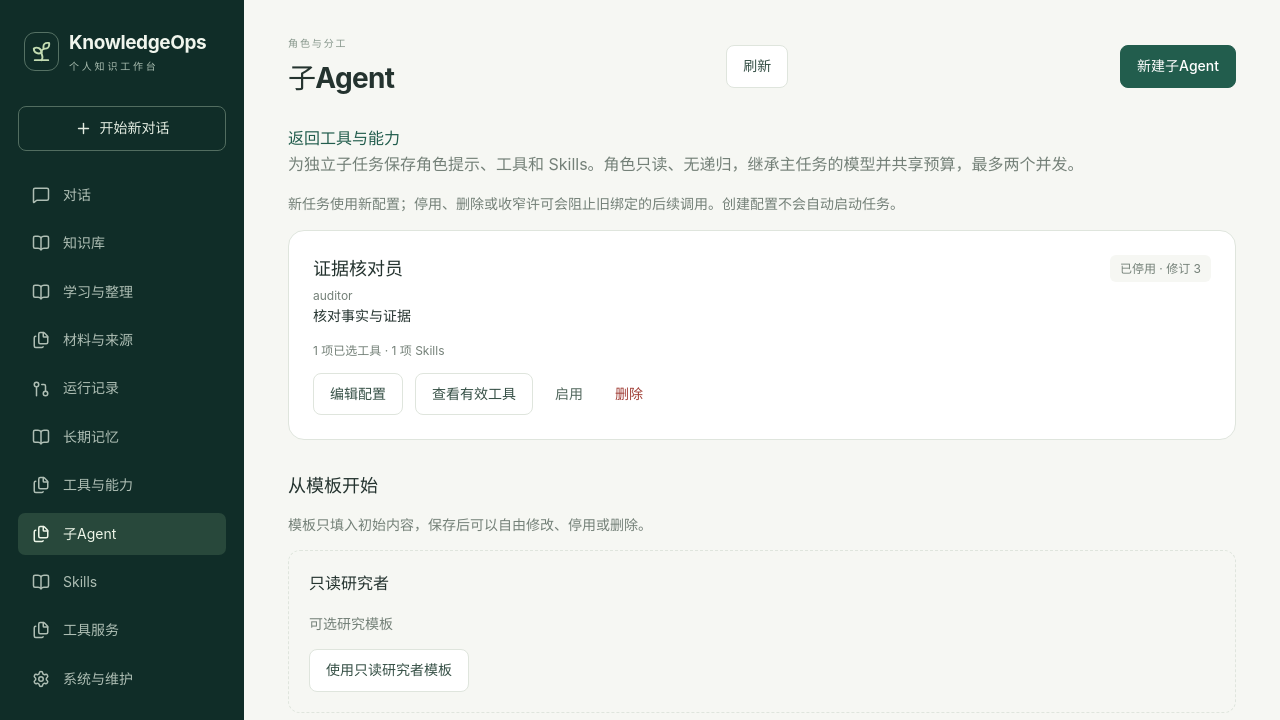
Scenario: toggles a precise revision and requires confirmation naming the role before tombstone deletion
Click the button "启用".
click(569, 394)  # box [545,376,593,411]
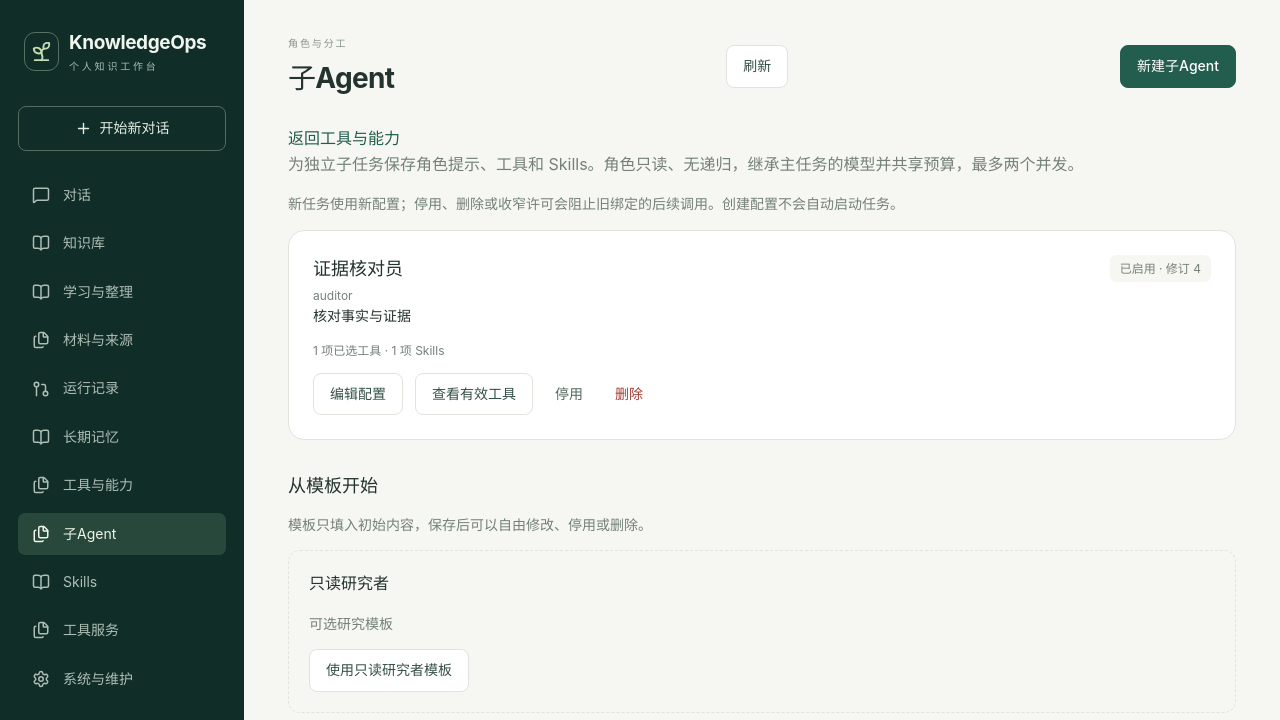
Now the button "停用" is shown, box [545,376,593,411]
Click the button "删除".
click(629, 394)  # box [605,376,653,411]
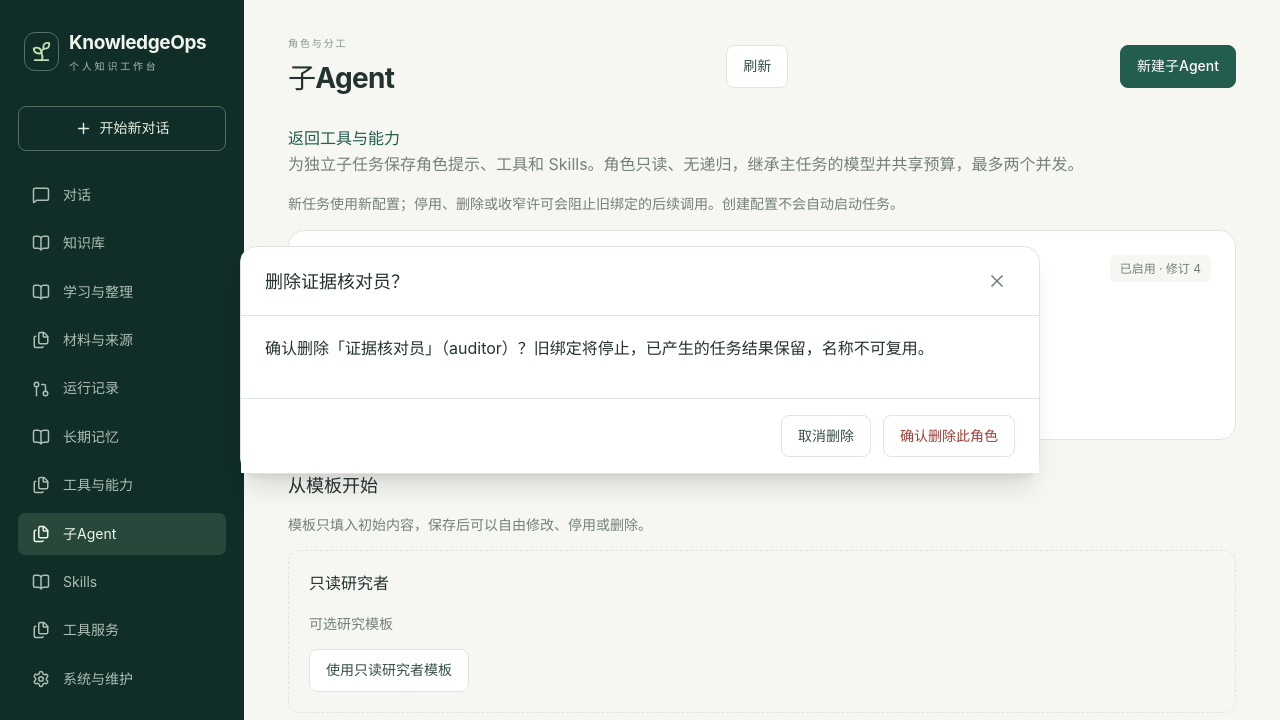
Now the text "确认删除「证据核对员」（auditor）？旧绑定将停止，已产生的任务结果保留，名称不可复用。" is shown, box [265,336,1015,362]
Click the button "取消删除".
click(826, 436)  # box [781,415,871,457]
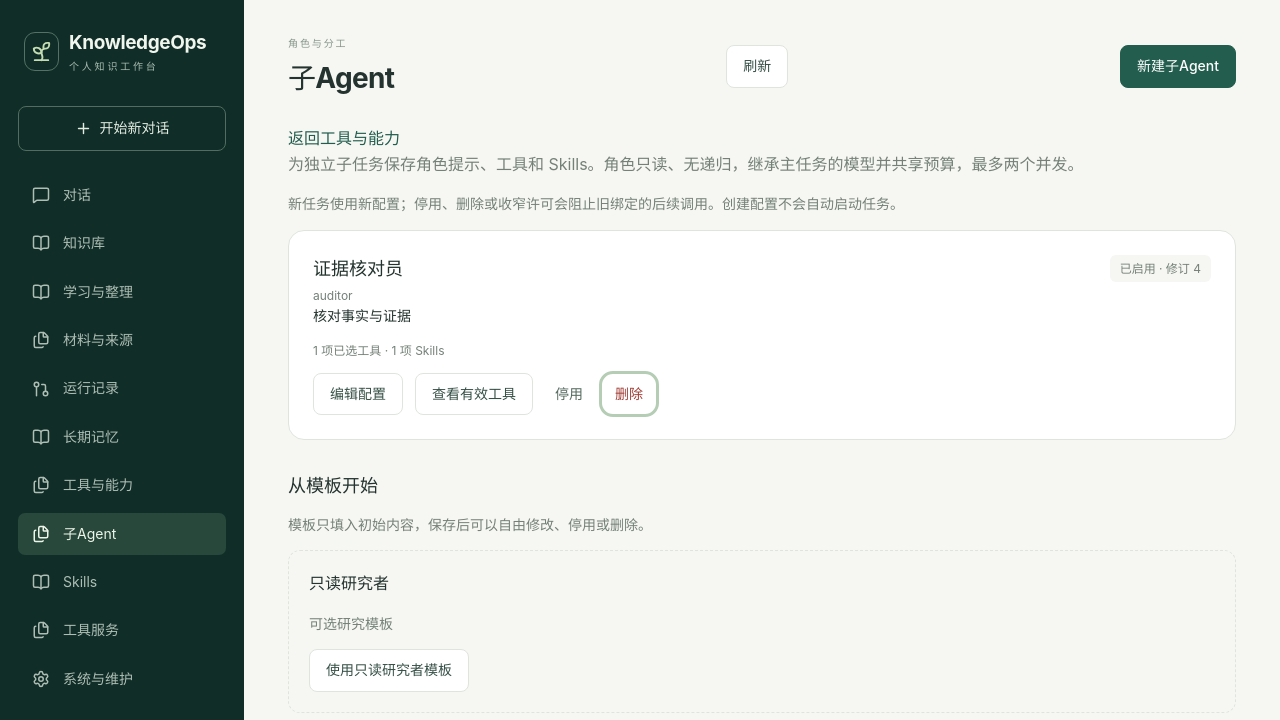
Click the button "删除".
click(629, 394)  # box [605,376,653,411]
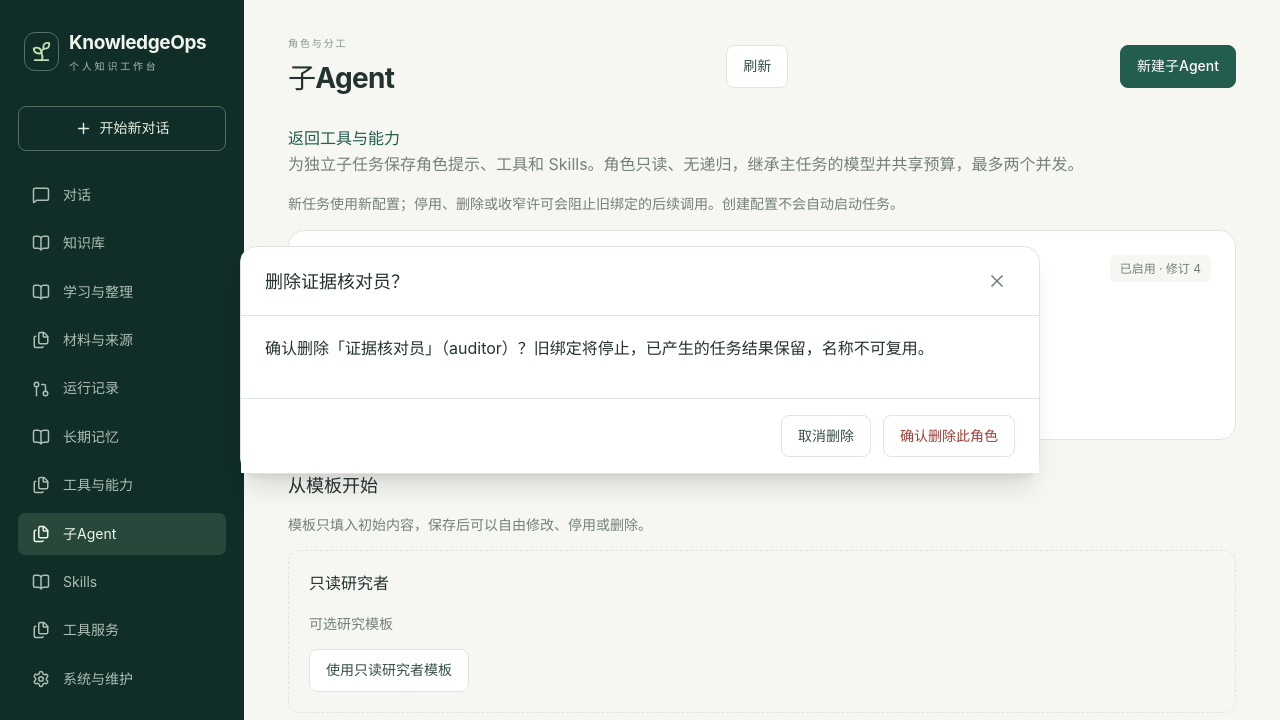
Click the button "确认删除此角色".
click(949, 436)  # box [883,415,1015,457]
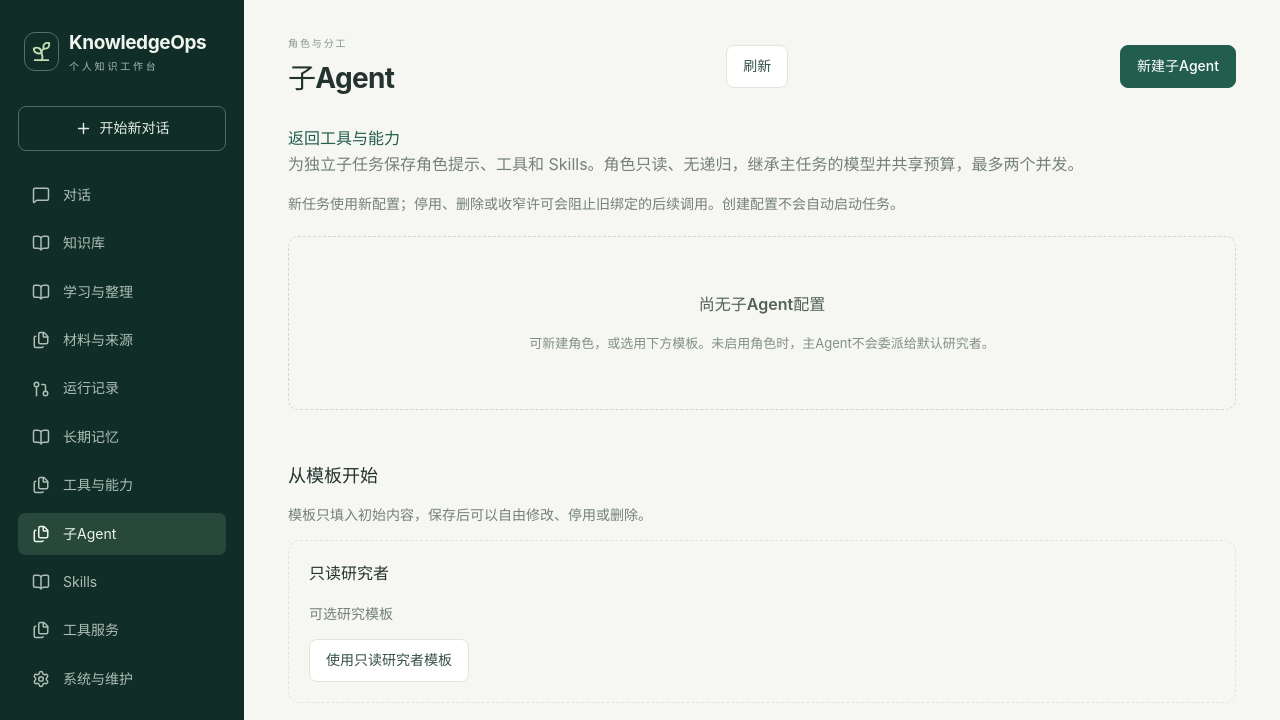
Now the heading "证据核对员" is gone
